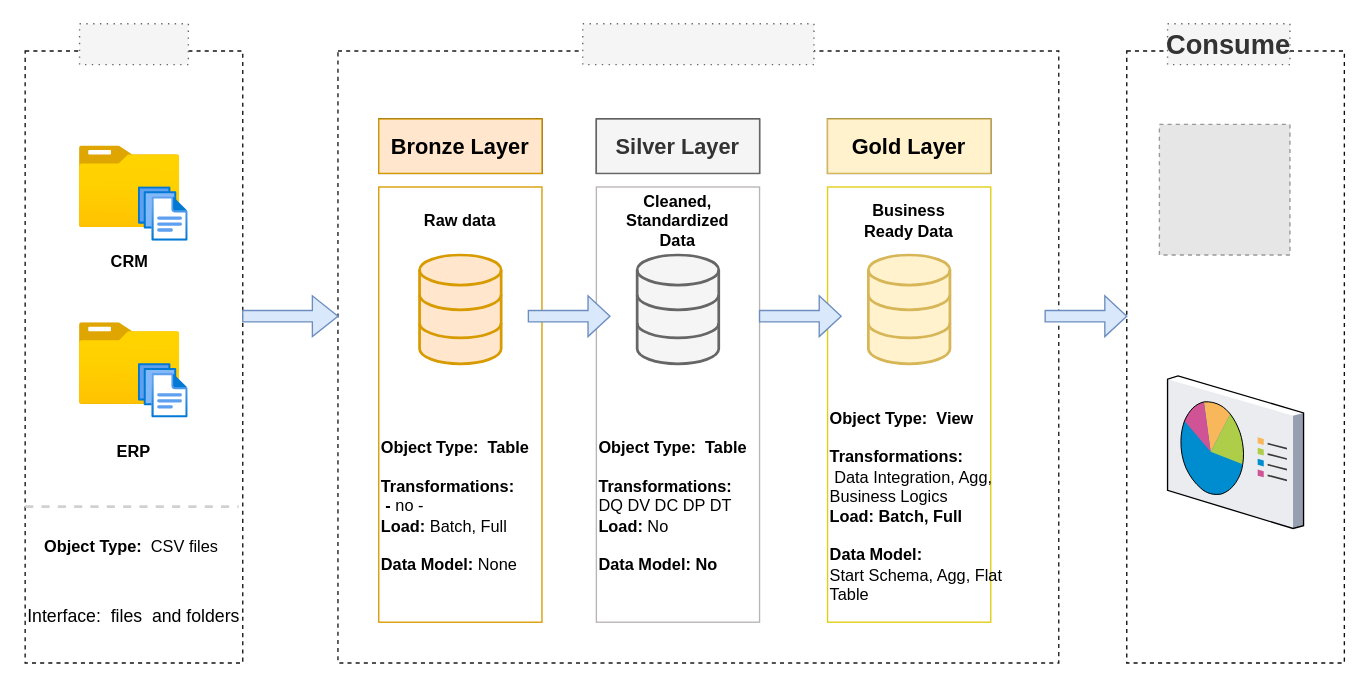
Image size: 1368x687. Some labels were removed from this diagram. Grey dashed boxes stand in for pictures. The shapes that lost their labels are listed below. From the top down, each one's centre as x and y in pixels, then its label:
point (133, 43): Source
point (697, 43): Data Warehouse
